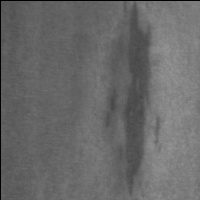inclusion: (116, 2, 168, 198), (96, 85, 121, 132)
